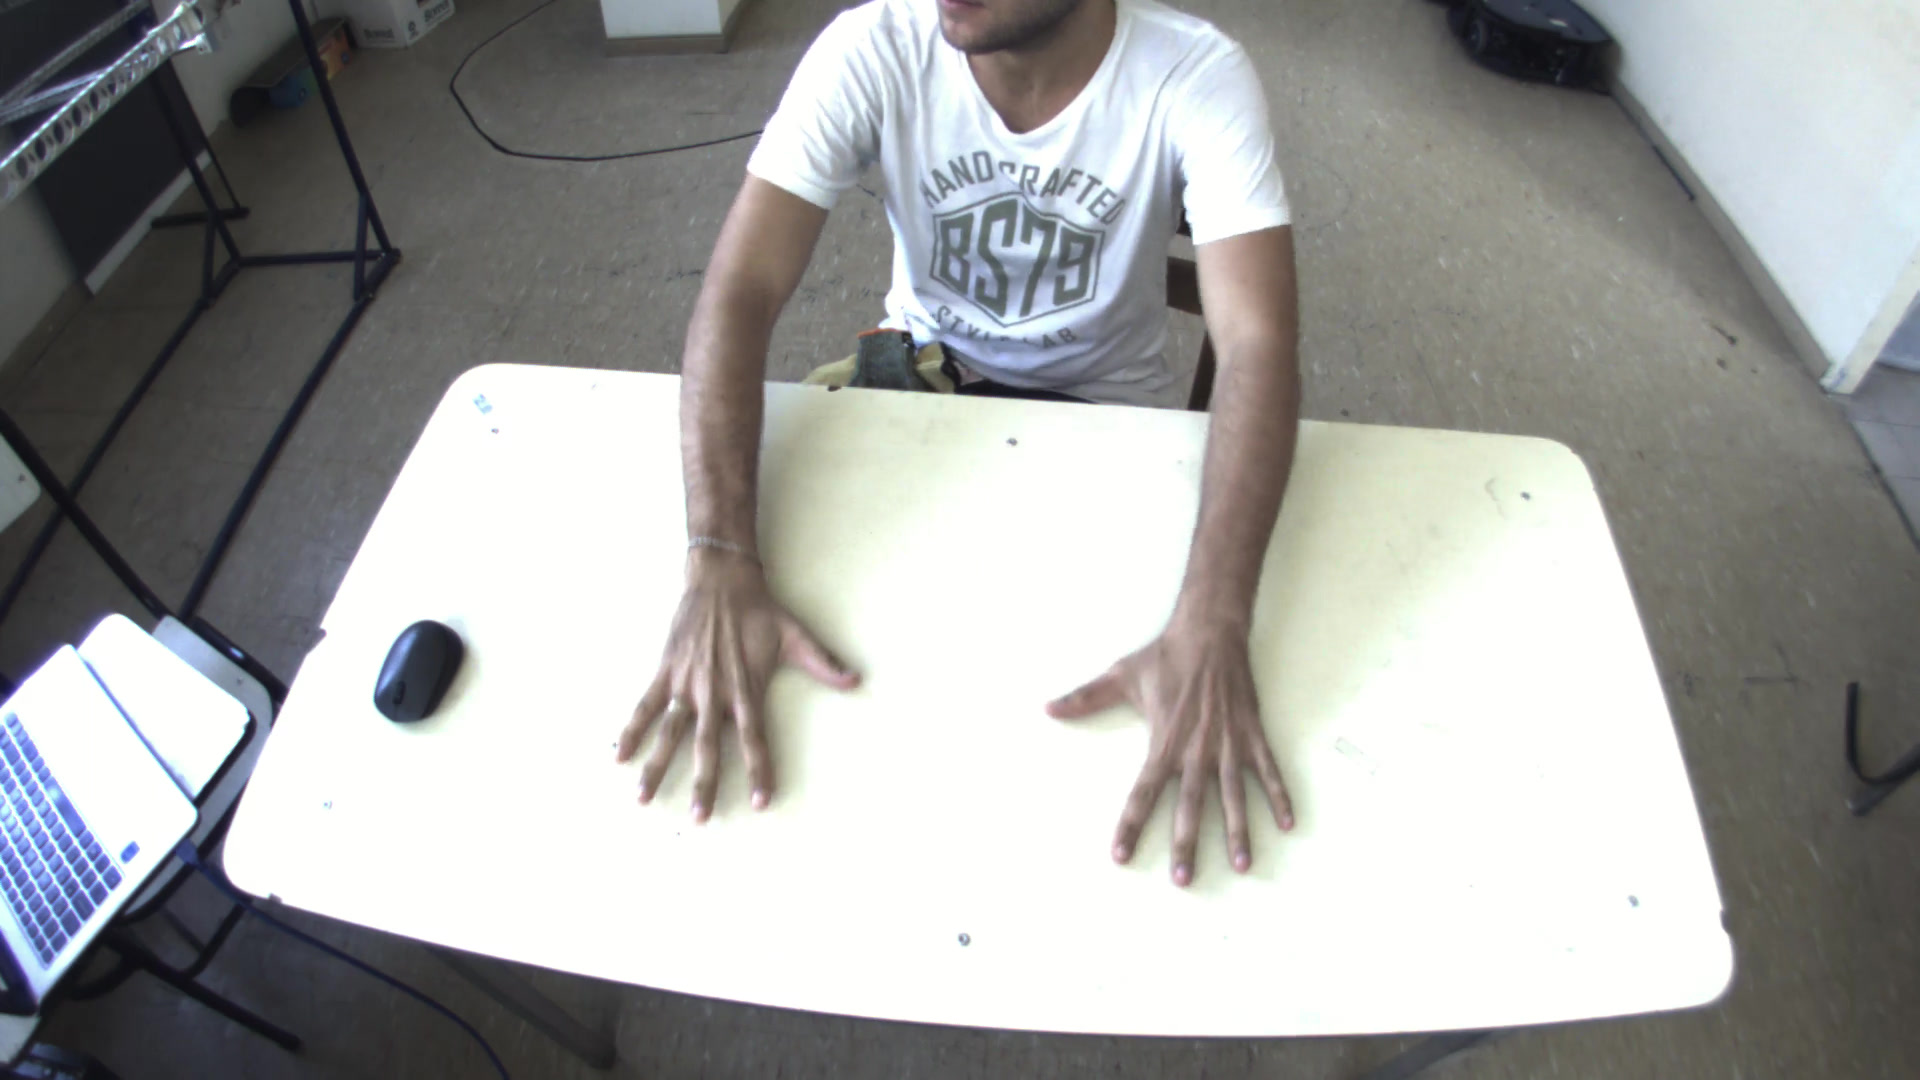hand: (1040, 603, 1323, 895), (599, 537, 872, 836)
